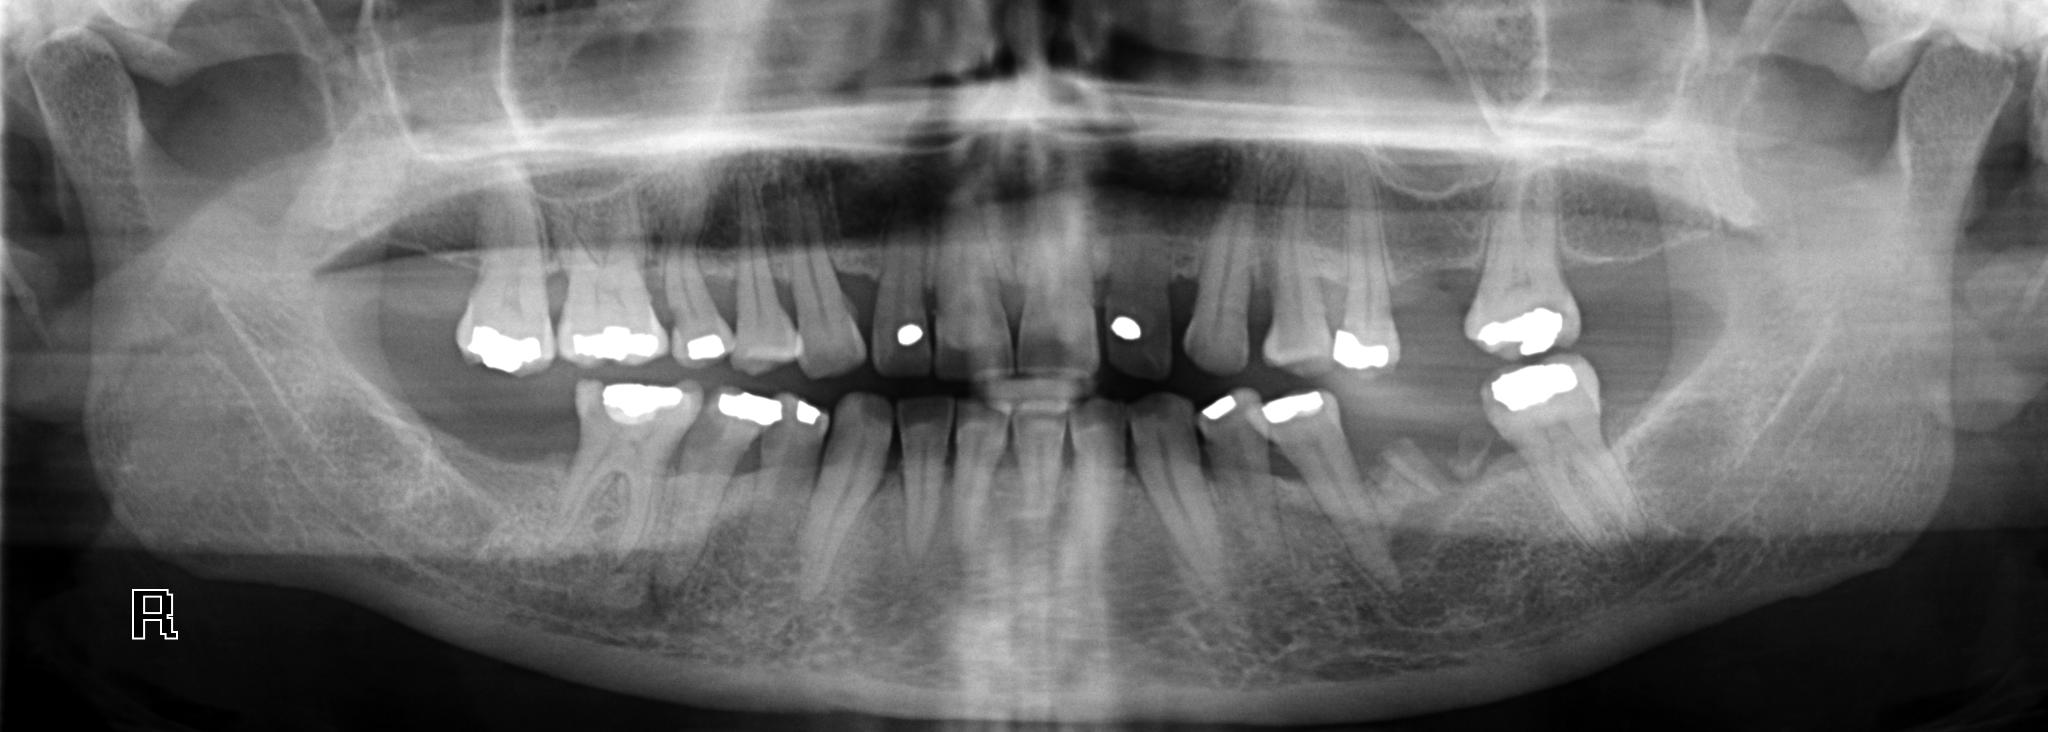Fillings: (1475, 357, 1620, 544), (554, 379, 692, 559), (1255, 387, 1371, 587), (1459, 190, 1579, 359), (453, 207, 558, 375), (743, 393, 831, 578), (552, 235, 669, 366), (867, 237, 931, 379), (1334, 239, 1400, 373)
